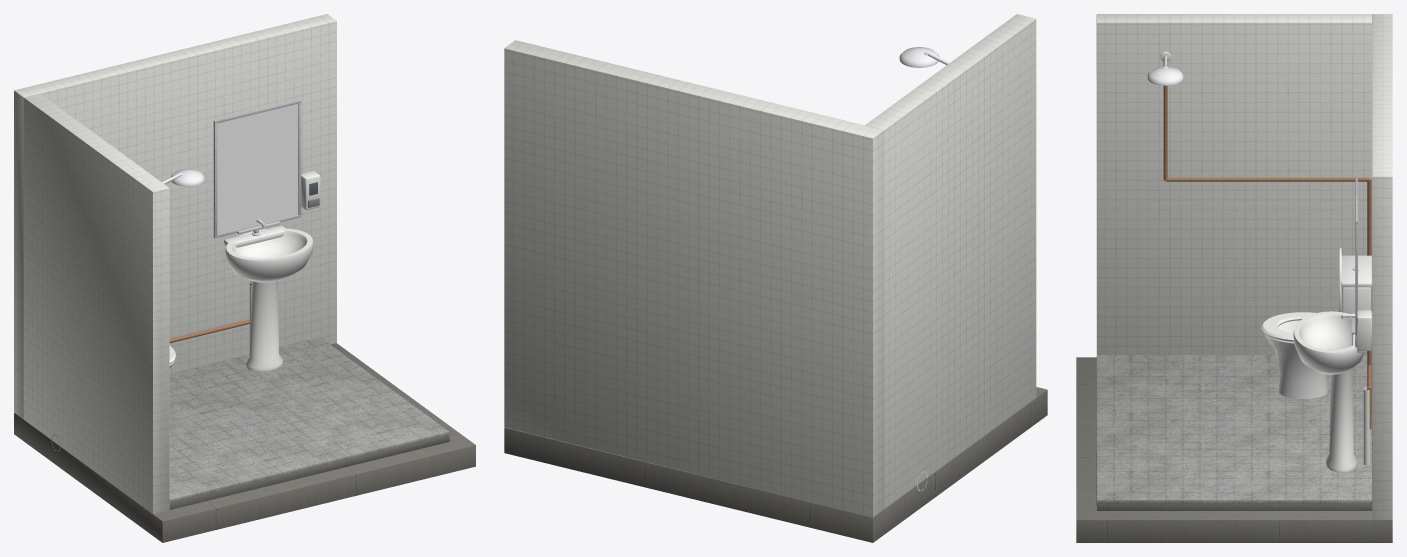
Rendered from KIT-HID-01_lod1.glb.
The picture shows the model from 3 angles, left to right: view 1: azimuth 30°, elevation 25°; view 2: azimuth 150°, elevation 25°; view 3: azimuth 270°, elevation 25°; orthographic projection. The views are drawn at different scales.
Parts seen in each view (by area): view 1: KIT-HID-01_parede_lado, KIT-HID-01_parede_fundo, KIT-HID-01_piso, KIT-HID-01_laje, KIT-HID-01_p4, KIT-HID-01_p2, KIT-HID-01_contrapiso, KIT-HID-01_p5; view 2: KIT-HID-01_parede_fundo, KIT-HID-01_parede_lado, KIT-HID-01_laje, KIT-HID-01_p3; view 3: KIT-HID-01_parede_lado, KIT-HID-01_piso, KIT-HID-01_laje, KIT-HID-01_parede_fundo, KIT-HID-01_p2, KIT-HID-01_p1, KIT-HID-01_contrapiso, KIT-HID-01_af_lado, KIT-HID-01_p5, KIT-HID-01_p3, KIT-HID-01_esg40_sobe, KIT-HID-01_p4 (+2 smaller).
Part boxes in pixels (x1,y1,x2,y2): KIT-HID-01_parede_lado: (23,93,169,513); KIT-HID-01_parede_fundo: (14,14,336,418); KIT-HID-01_piso: (169,337,449,502); KIT-HID-01_laje: (14,343,475,542); KIT-HID-01_p4: (213,99,301,238); KIT-HID-01_p2: (224,219,313,371); KIT-HID-01_contrapiso: (169,434,449,509); KIT-HID-01_p5: (301,171,320,210); KIT-HID-01_parede_fundo: (504,40,884,517); KIT-HID-01_parede_lado: (865,14,1036,508); KIT-HID-01_laje: (504,387,1047,542); KIT-HID-01_p3: (899,47,949,67); KIT-HID-01_parede_lado: (1096,14,1372,356); KIT-HID-01_piso: (1096,355,1372,503); KIT-HID-01_laje: (1076,357,1392,542); KIT-HID-01_parede_fundo: (1372,14,1392,519); KIT-HID-01_p2: (1293,311,1366,472); KIT-HID-01_p1: (1261,247,1372,398); KIT-HID-01_contrapiso: (1096,503,1372,510); KIT-HID-01_af_lado: (1165,177,1369,181); KIT-HID-01_p5: (1355,310,1372,350); KIT-HID-01_p3: (1147,51,1183,85); KIT-HID-01_esg40_sobe: (1363,387,1370,465); KIT-HID-01_p4: (1351,176,1372,334).
Bounding box in the file's own units: 2.24 × 2.35 × 1.84.
13 materials, 4 textured.
